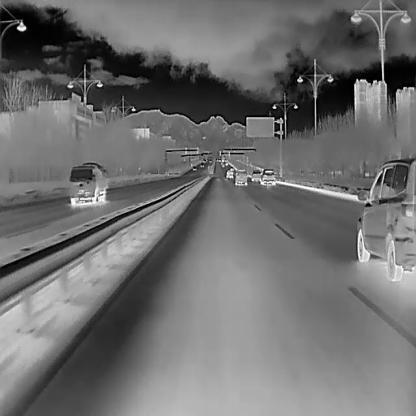car: (357, 157, 416, 280), (68, 160, 107, 206), (261, 168, 275, 186), (235, 167, 246, 186), (250, 169, 262, 181), (226, 169, 233, 178), (191, 166, 196, 171), (200, 163, 204, 168), (221, 164, 226, 168), (208, 159, 212, 163), (229, 166, 233, 170), (224, 162, 228, 165)
